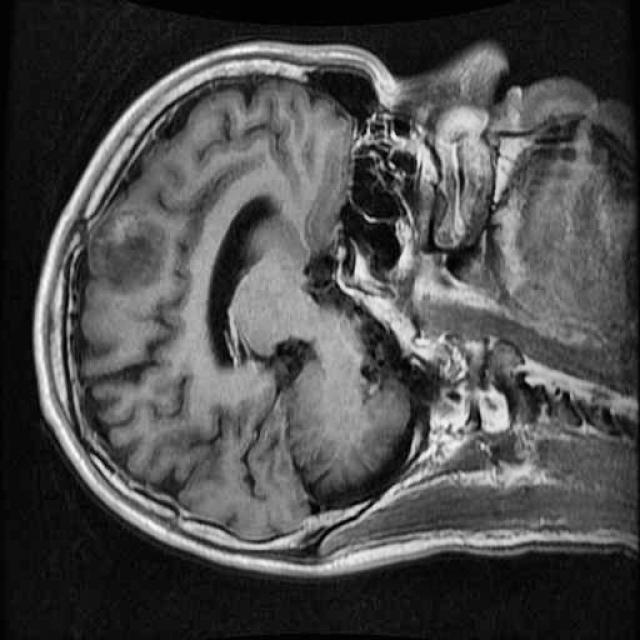Non-Tumor: (76, 189, 178, 309)
